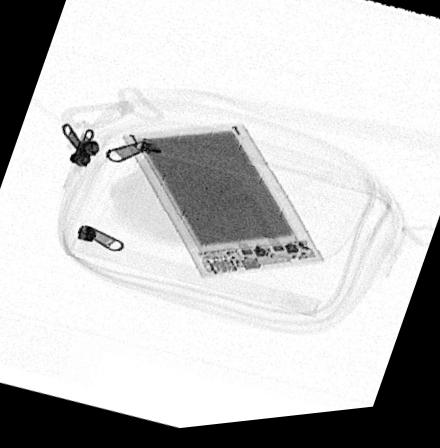Powerbank: (121, 126, 326, 282)
